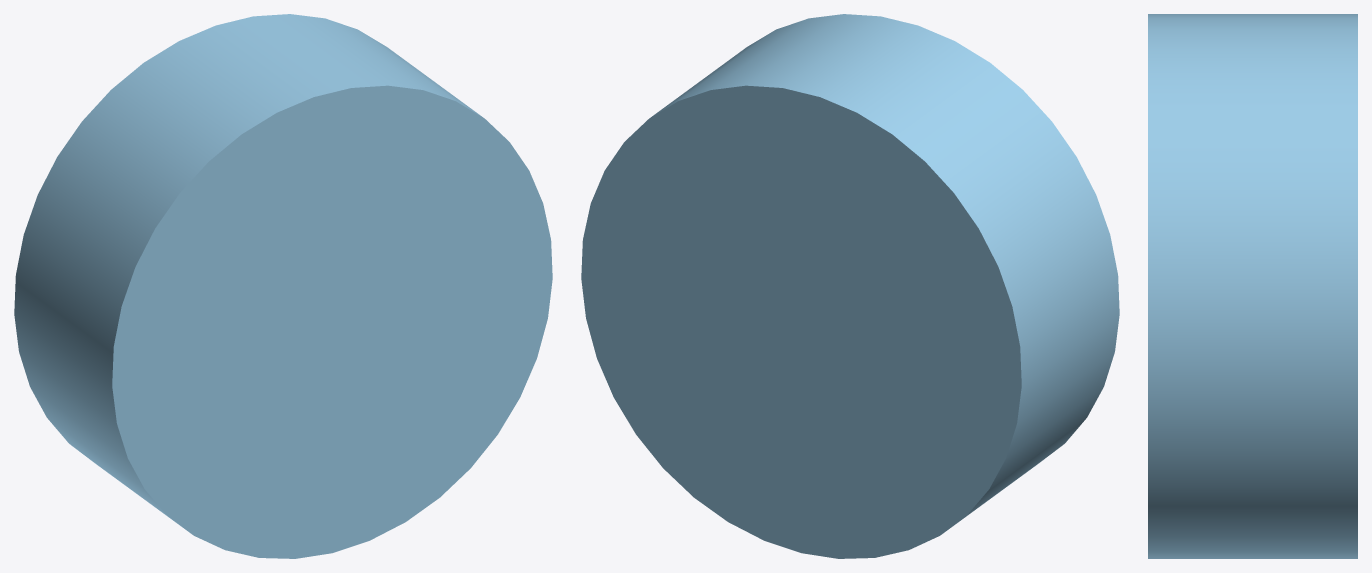
The model's file is wheel_link.dae.
3 renders of one model, left to right at view 1: azimuth 30°, elevation 25°; view 2: azimuth 150°, elevation 25°; view 3: azimuth 270°, elevation 25°, orthographic. The views are drawn at different scales.
Visible parts, largest first — view 1: ID2; view 2: ID2; view 3: ID2.
Part boxes in pixels (left/top/right/bottom): ID2: left=14, top=14, right=552, bottom=558; ID2: left=581, top=14, right=1119, bottom=558; ID2: left=1148, top=14, right=1357, bottom=558.
Size of the model in its own units: 0.0649 by 0.025 by 0.0649.
